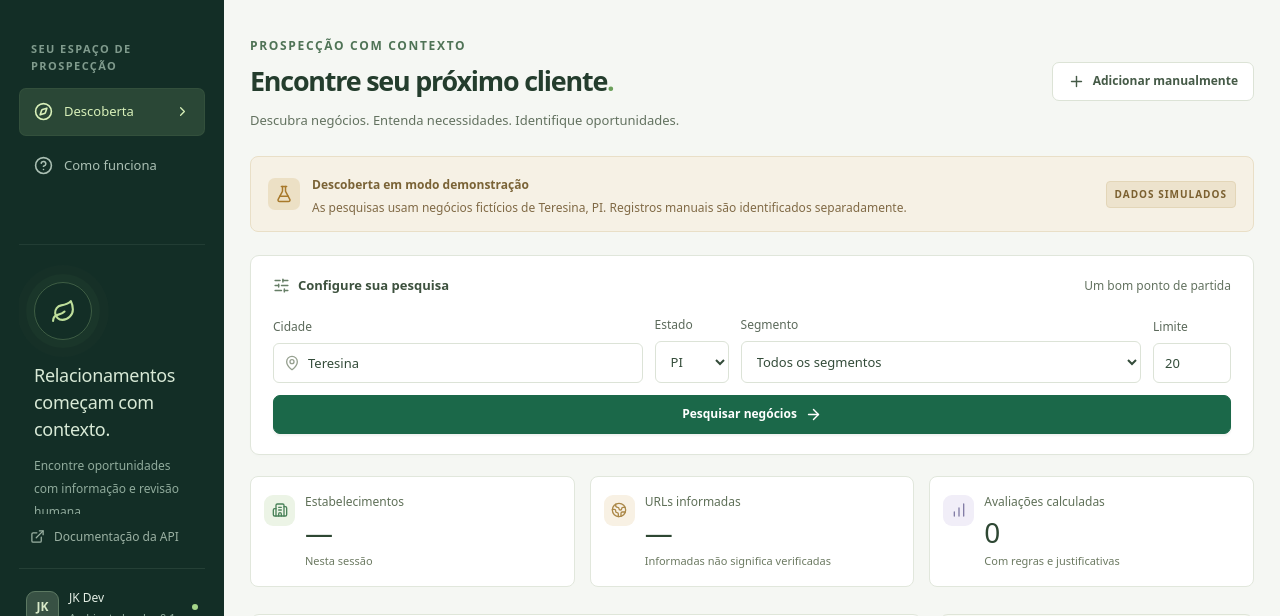
Test: primeira versão do dashboard › inspeciona o registro selecionado e explica a simulação
Click the button "Pesquisar negócios".
click(752, 414)  # box x1=273 y1=395 x2=1231 y2=434
(page scrolled)
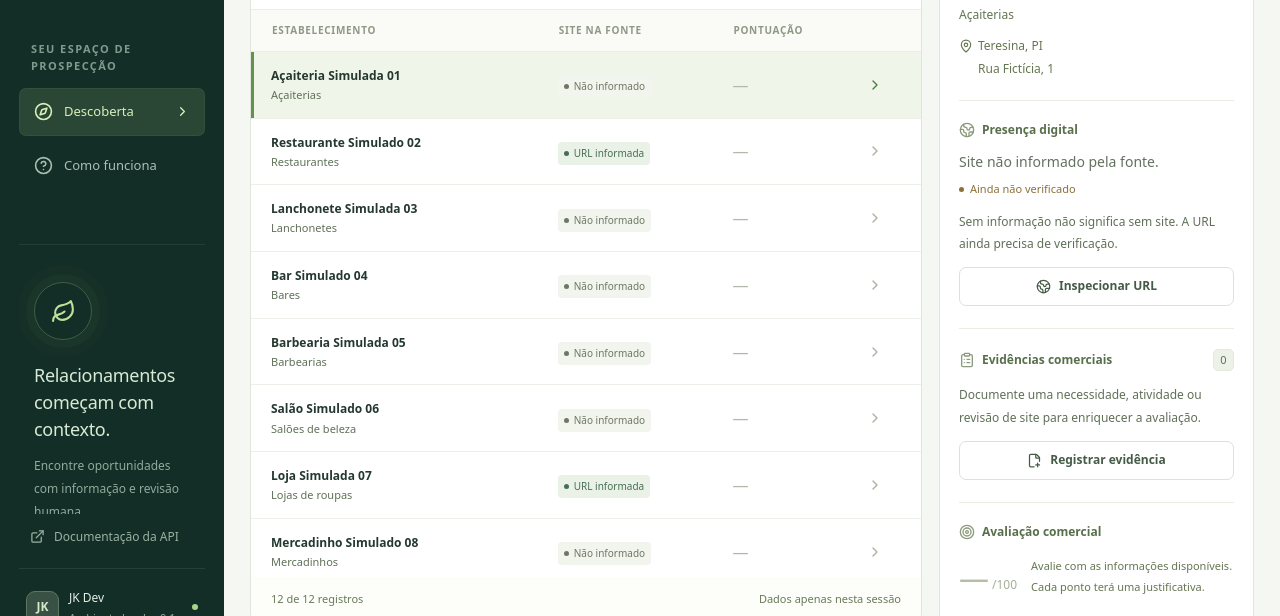
Click the button "Inspecionar URL".
click(1096, 286)  # box x1=959 y1=267 x2=1234 y2=306
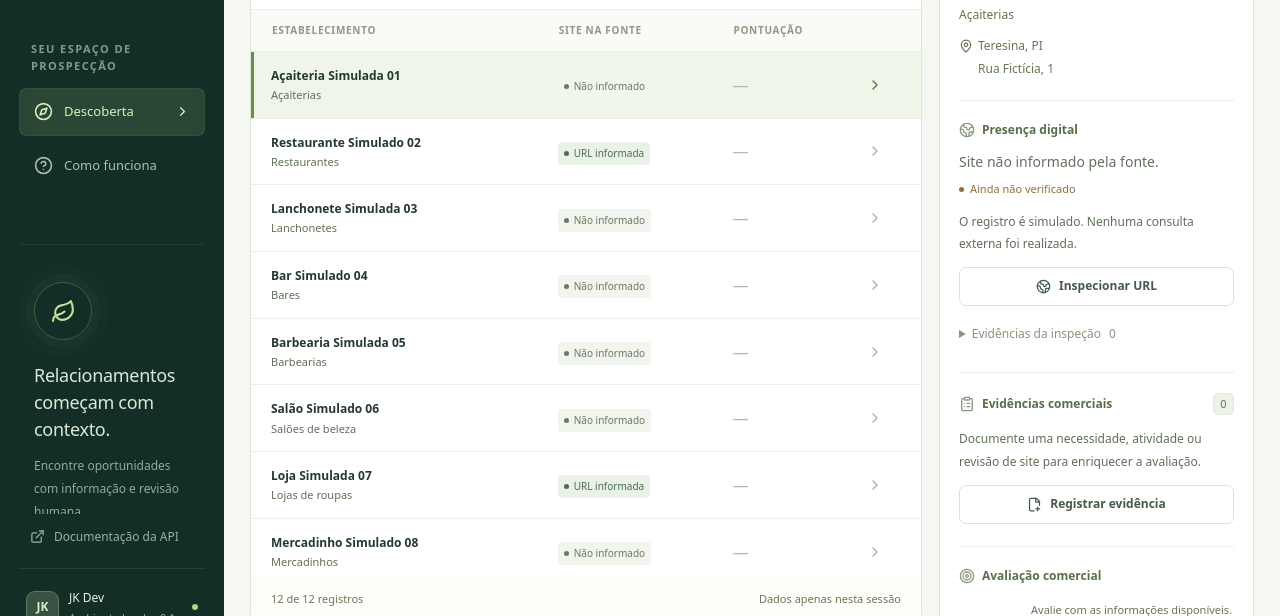
Check: the text "Ainda não verificado" is shown, box x1=959 y1=181 x2=1076 y2=198
Check: the text "O registro é simulado. Nenhuma consulta externa foi realizada." is shown, box x1=959 y1=211 x2=1234 y2=255
